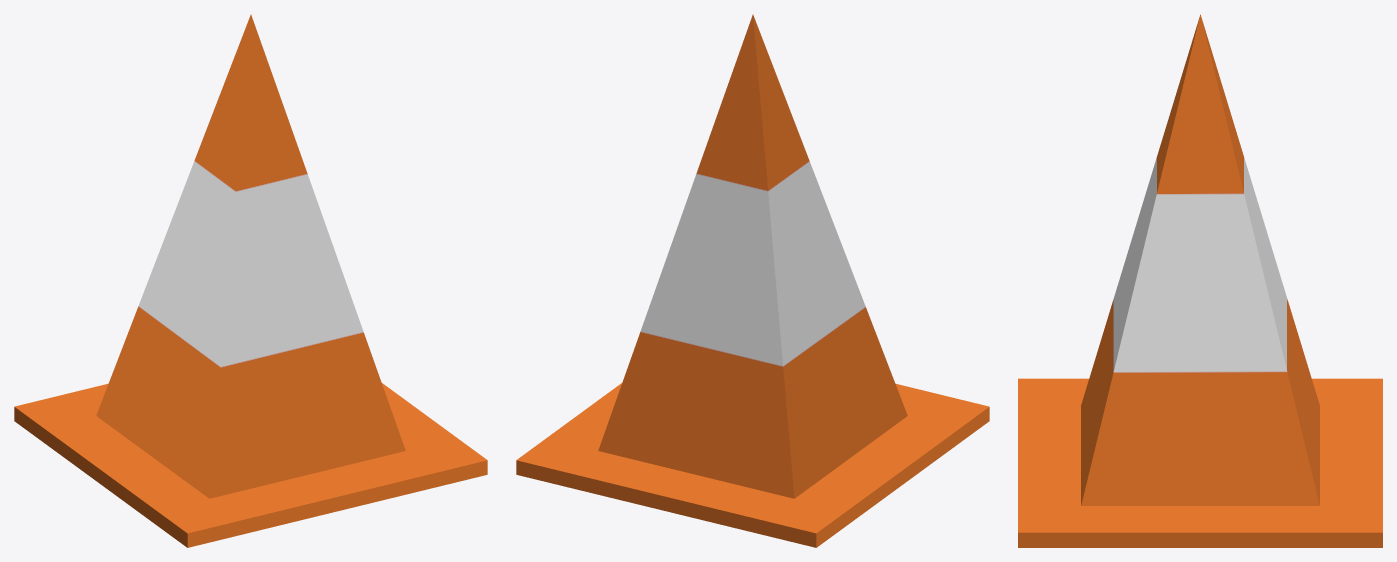
The model's file is RoadCone.fbx.
3 renders of one model, left to right at view 1: azimuth 30°, elevation 25°; view 2: azimuth 150°, elevation 25°; view 3: azimuth 270°, elevation 25°, orthographic. The views are drawn at different scales.
Visible parts, largest first — view 1: Cube; view 2: Cube; view 3: Cube.
Boxes of the visible parts, bbox=[...] form: Cube: bbox=[14, 14, 487, 547]; Cube: bbox=[516, 14, 989, 547]; Cube: bbox=[1018, 14, 1382, 547].
Bounding box in the file's own units: 306 × 422 × 306.
